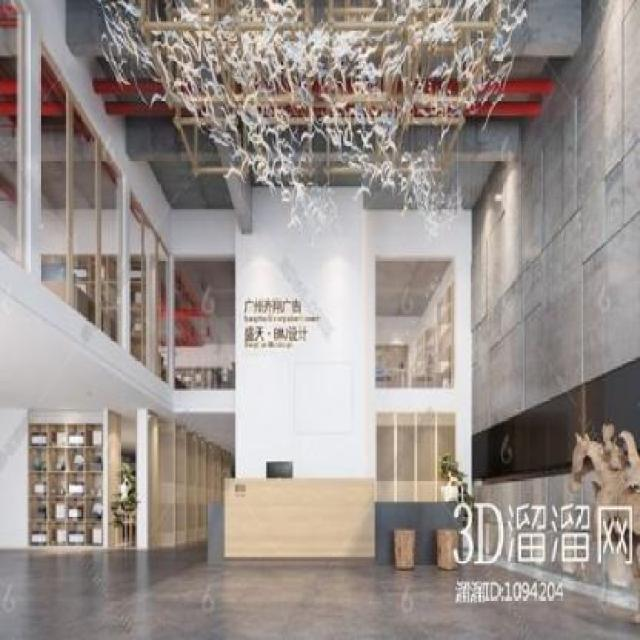frontdesk: (212, 457, 476, 585)
